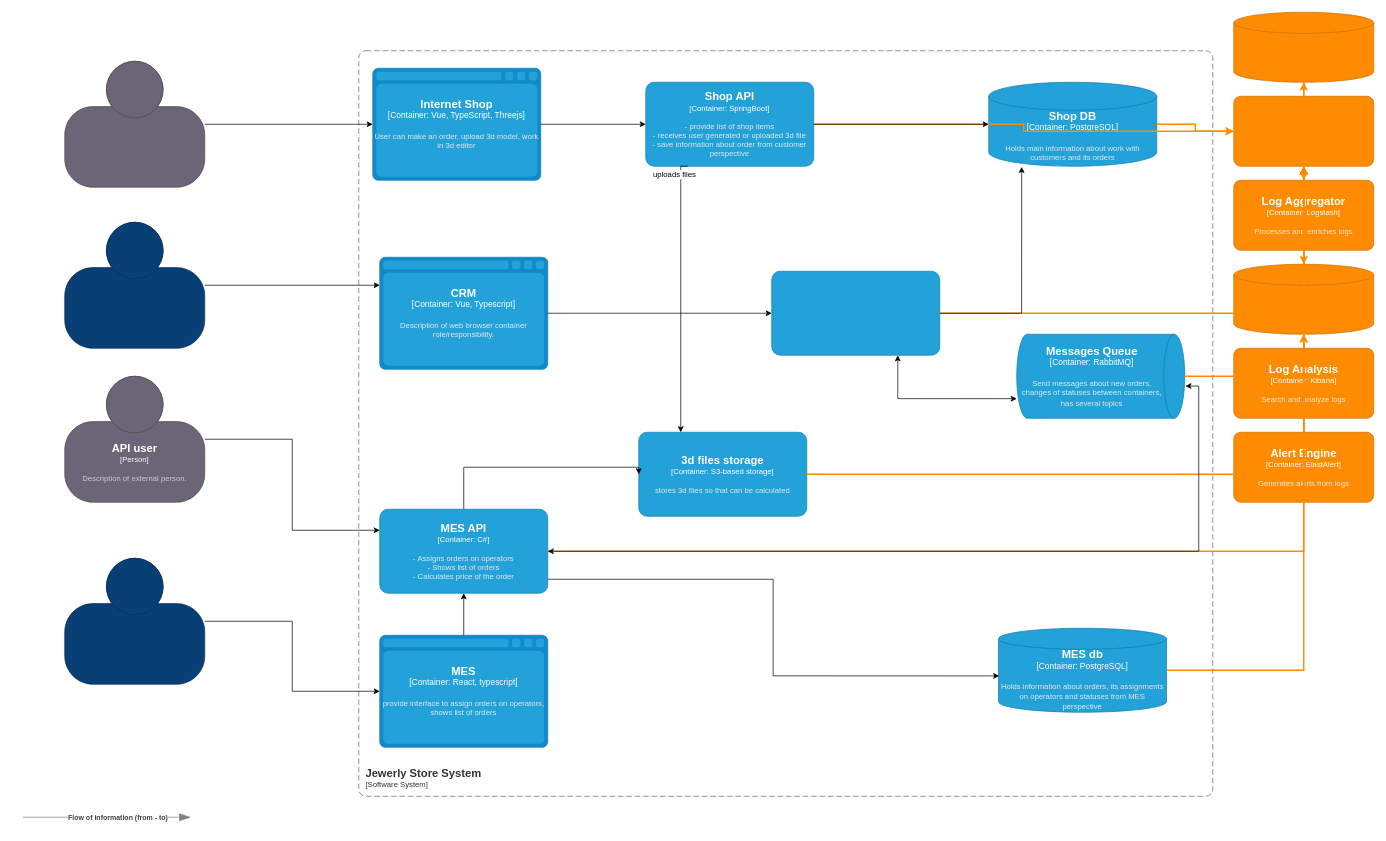
Image size: 1386x841. Some labels were removed from this diagram. The centre of each missing label's shape, as x and y in pixels:
CRM API [Container: SpringBoot] Description of container role/responsibility.: point 855,313
Customer [Person] Description of external person.: point 134,124
Log Buffer [Container: Redis] Buffers logs for high performance: point 1303,47
Log Collectors [Container: Fluentd] Collects logs from all sources: point 1303,131
Log Storage [Container: Elasticsearch] Stores and indexes logs: point 1303,299
Operator [Person] Takes order in work, manufactures jewerly: point 134,621
Seller [Person] Operates with order, confirms manufacturing for the user: point 134,285
